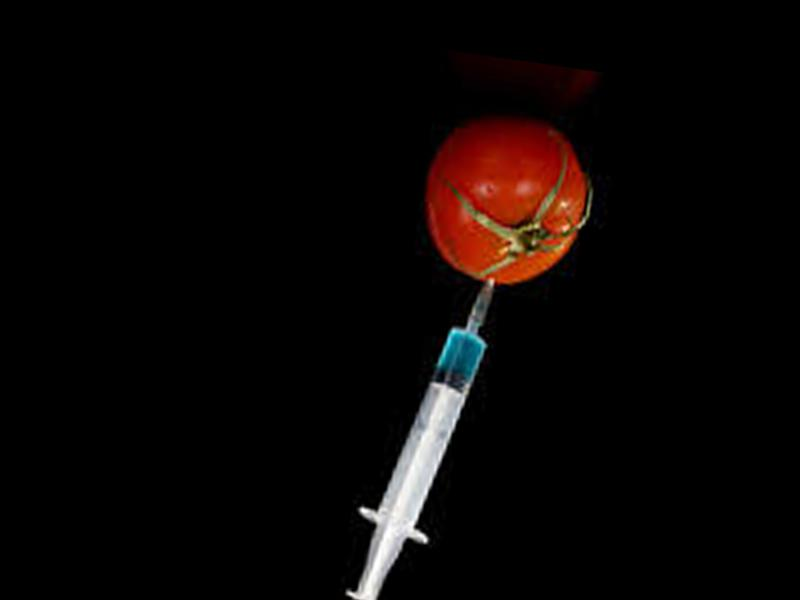Tomato: (412, 110, 600, 296)
